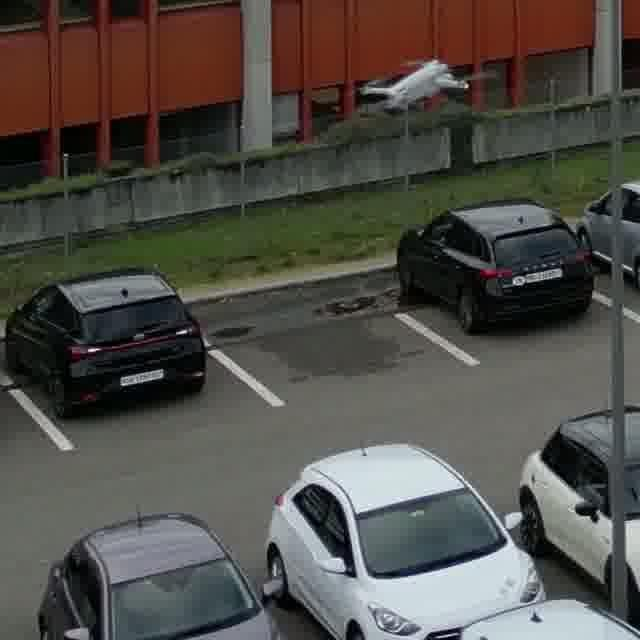Drohne: (358, 58, 490, 114)
